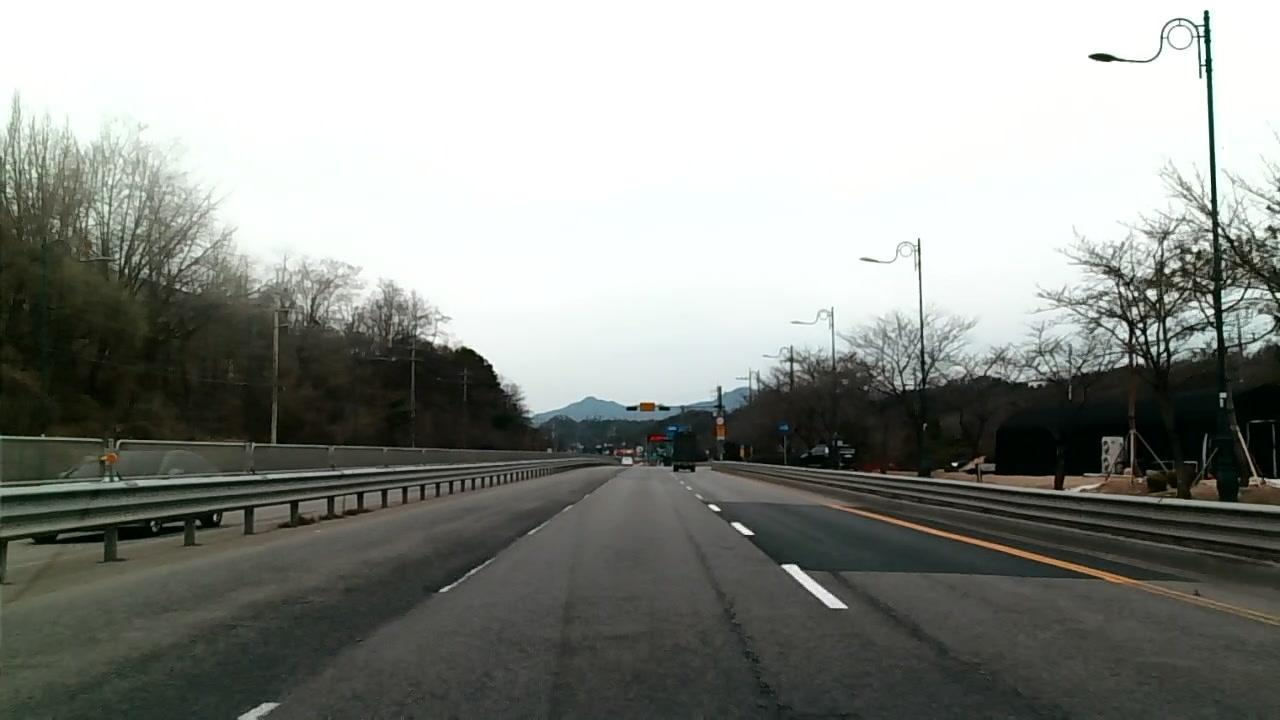vcrack: (688, 537, 794, 720), (831, 569, 963, 663)
